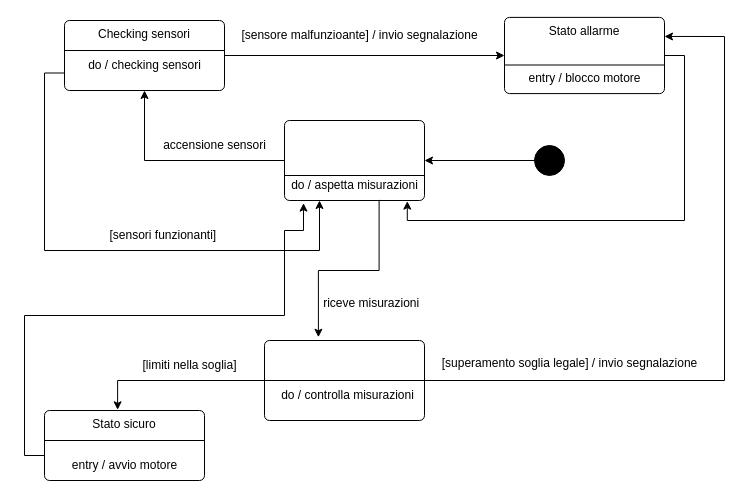
The diagram is 750 pixels wide and 499 high, and some of its shapes have lost their labels. Each missing label, with the box of its shape:
Elaborazione: (264, 340, 424, 420)
IDLE: (284, 120, 424, 200)
